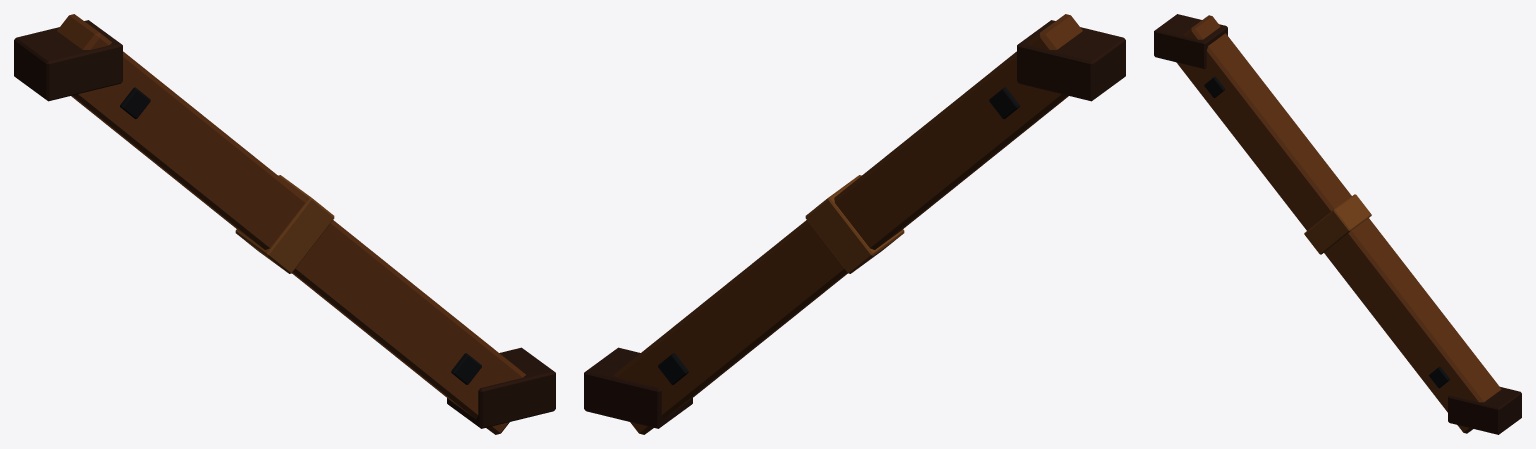
File: mod_diagonal_brace_2m.glb
3 views of the same model, side by side, from view 1: azimuth 30°, elevation 25°; view 2: azimuth 150°, elevation 25°; view 3: azimuth 330°, elevation 25° (orthographic). The views are drawn at different scales.
Visible parts, largest first — view 1: Mod_Diagonal_Brace_2m; view 2: Mod_Diagonal_Brace_2m; view 3: Mod_Diagonal_Brace_2m.
Boxes of the visible parts, x1=… form: Mod_Diagonal_Brace_2m: x1=14, y1=14, x2=555, y2=434; Mod_Diagonal_Brace_2m: x1=584, y1=14, x2=1125, y2=434; Mod_Diagonal_Brace_2m: x1=1154, y1=14, x2=1521, y2=434.
Size of the model in its own units: 1.6 by 1.5 by 0.192.
